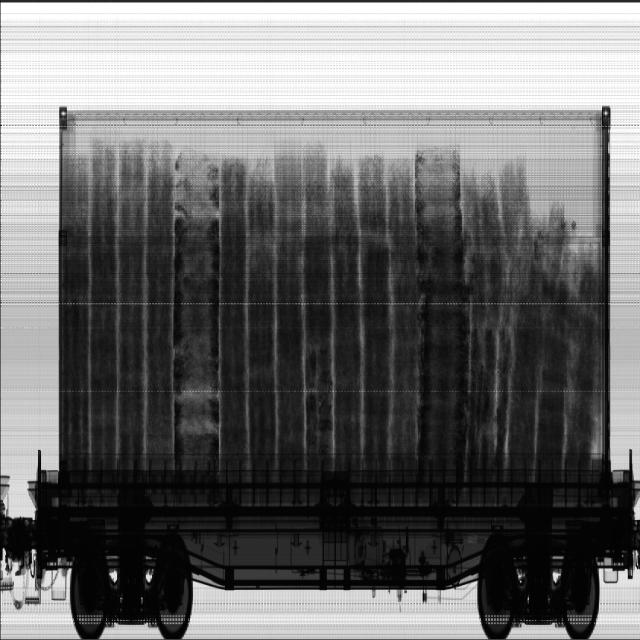textiles: (61, 137, 600, 465)
